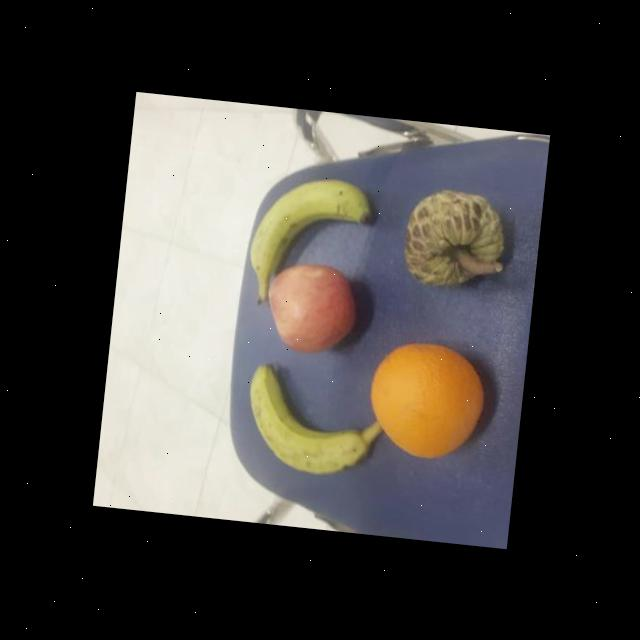Sakya fruit: (398, 182, 510, 292)
apple: (260, 258, 362, 359)
banana: (244, 170, 376, 312), (240, 360, 373, 478)
orange: (364, 338, 486, 463)
